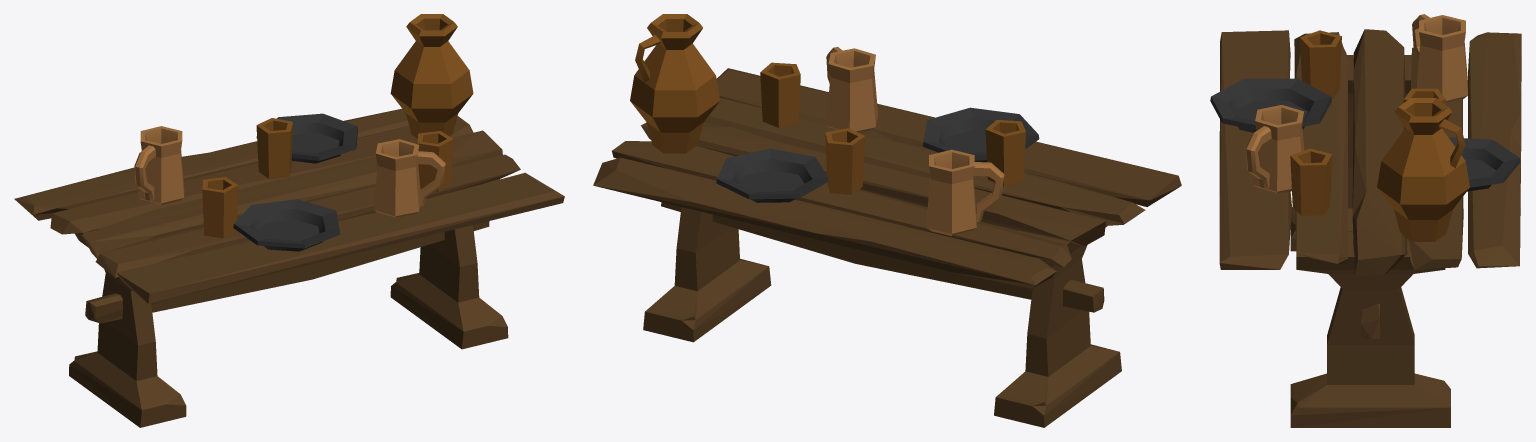
Rendered from SM_table_tavern.fbx.
3 renders of one model, left to right at view 1: azimuth 30°, elevation 25°; view 2: azimuth 150°, elevation 25°; view 3: azimuth 270°, elevation 25°, orthographic. The views are drawn at different scales.
Visible parts, largest first — view 1: Plane042; view 2: Plane042; view 3: Plane042.
Part boxes in pixels (box(x1,y1,x2,y2)): Plane042: box(14, 14, 564, 427); Plane042: box(593, 14, 1181, 427); Plane042: box(1210, 14, 1521, 427).
Size of the model in its own units: 97.29 by 61.61 by 55.83.
